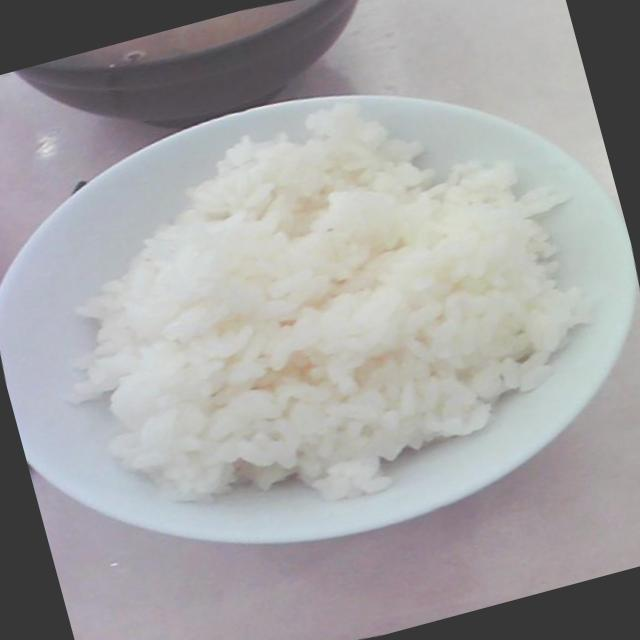Rice: (40, 59, 620, 550)
